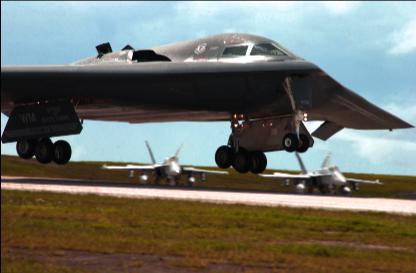B1: (1, 31, 414, 173)
F15: (98, 140, 228, 184), (256, 150, 382, 194)
